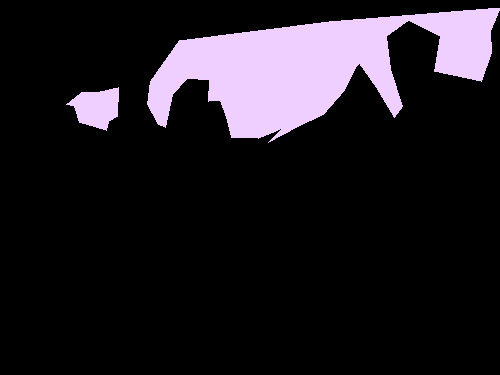Train: (66, 7, 500, 142)
